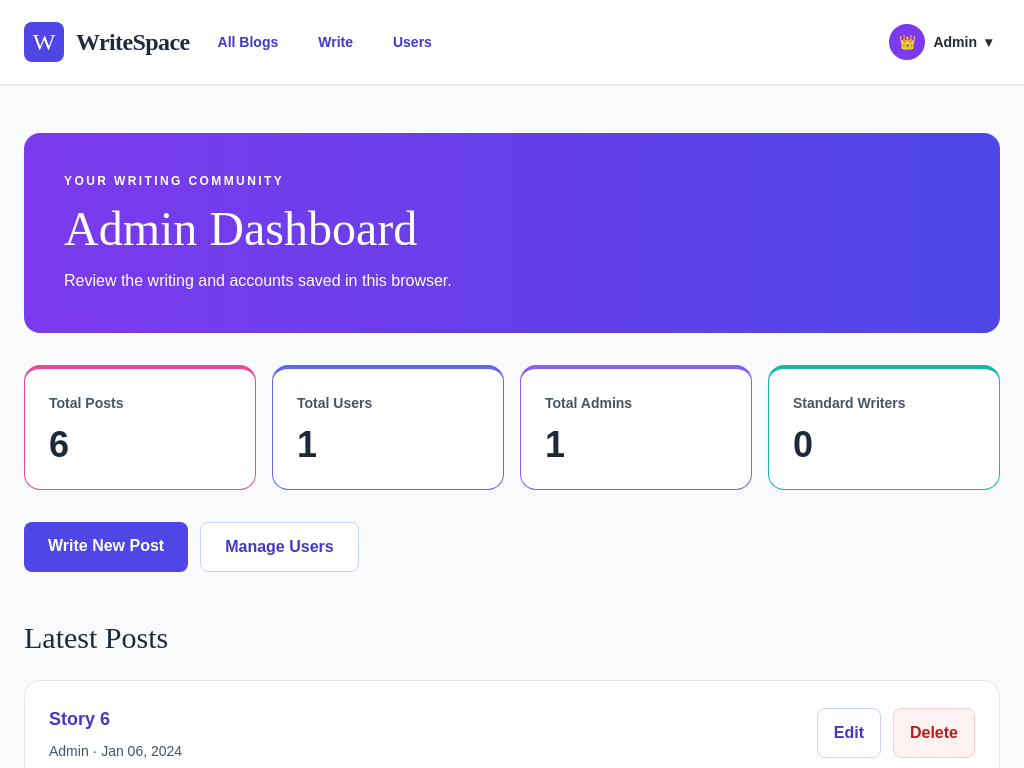
it: sorts and limits latest five with reading/edit links, cancel leaves storage unchanged, delete refreshes counts and membership
Click the button with aria-label "Delete Story 6": (934, 733) [893, 708, 975, 758]
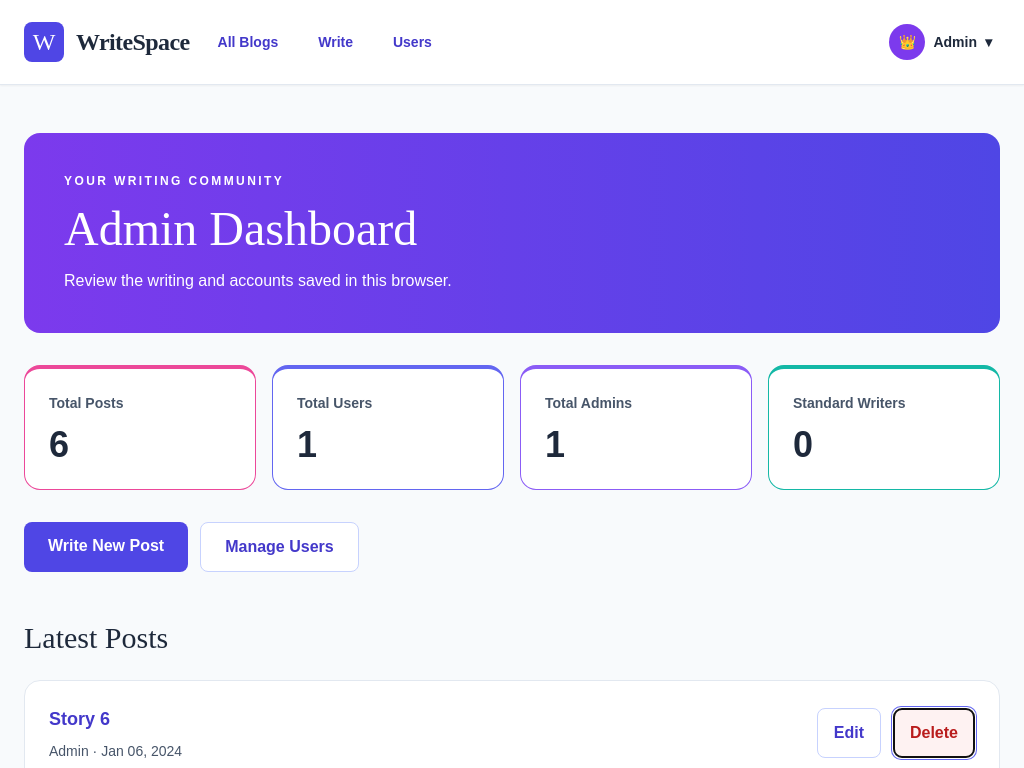
Click the button with aria-label "Delete Story 6": (934, 733) [893, 708, 975, 758]
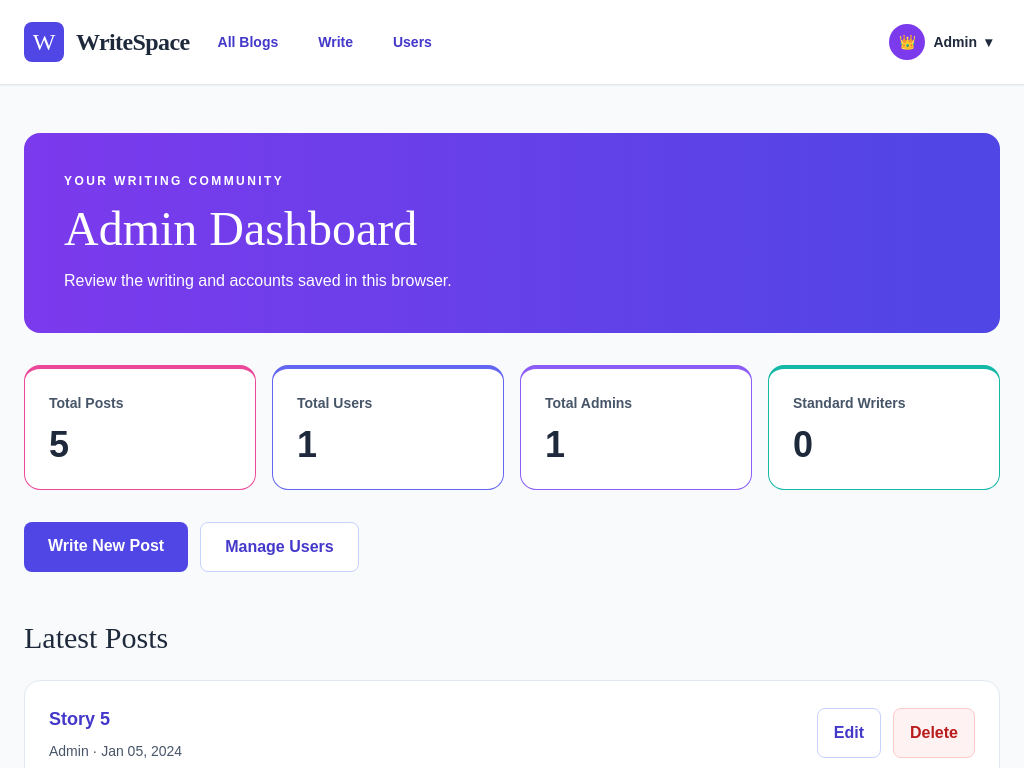
Now the link "Story 6" is gone
Click the link with aria-label "Edit Story 5": (849, 733) [817, 708, 881, 758]
(page scrolled)
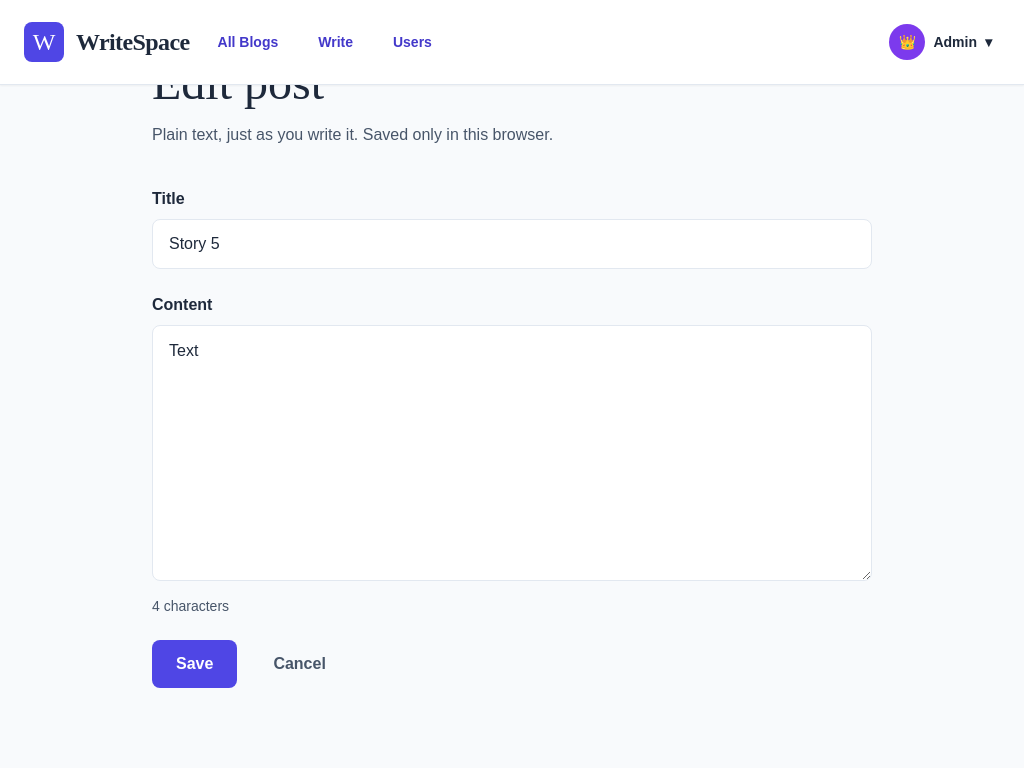
Now the field labelled "Title" holds "Story 5", box [152, 219, 872, 269]
Click the link "Cancel": (300, 664) [273, 655, 326, 672]
(page scrolled)
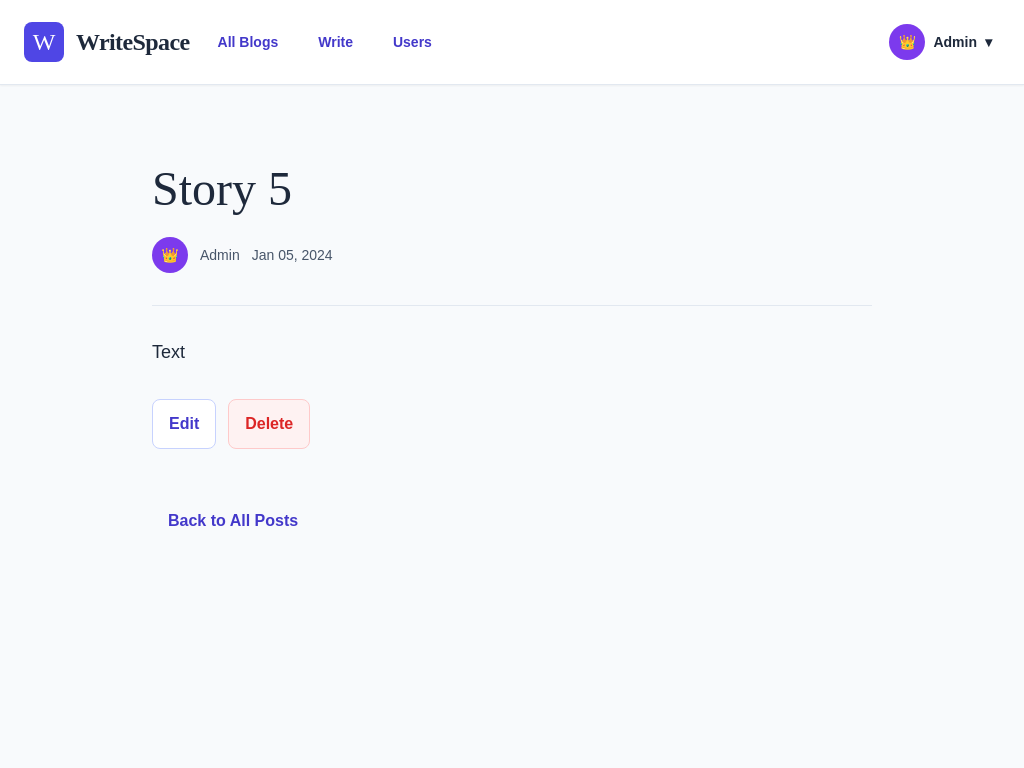
Now the heading "Story 5" is shown, box [152, 162, 292, 215]
